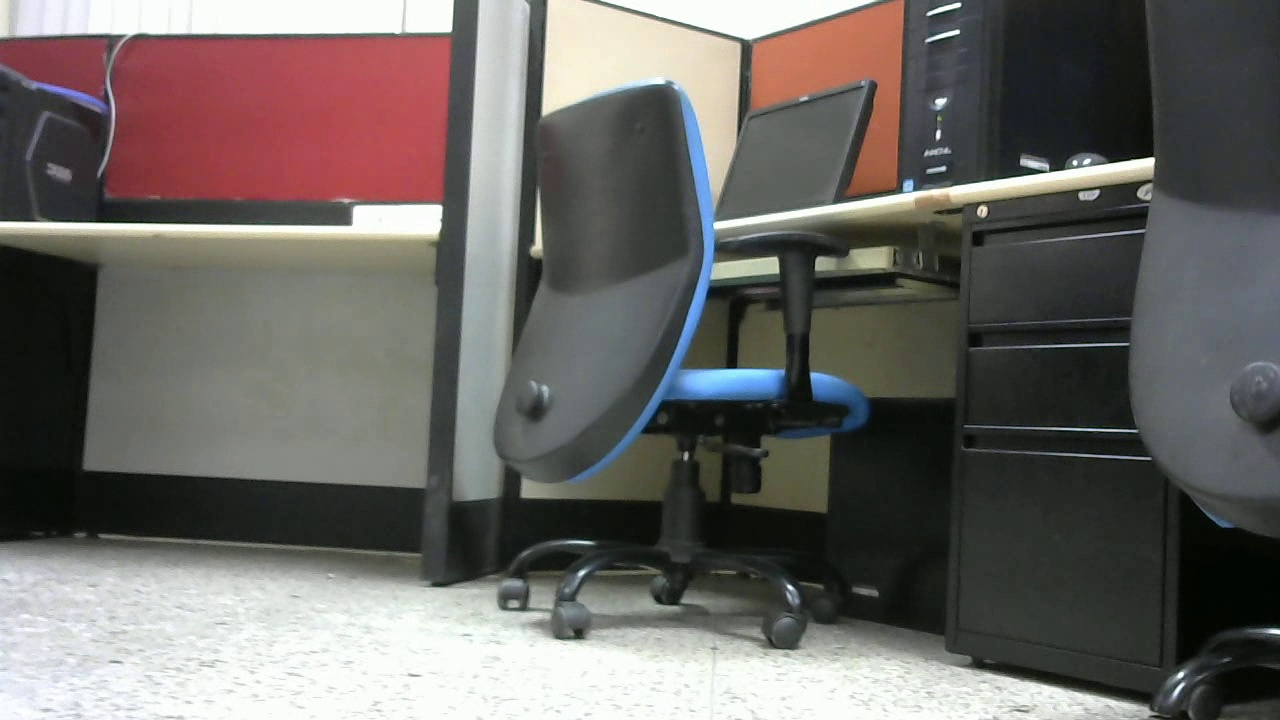chair: (493, 78, 874, 648)
